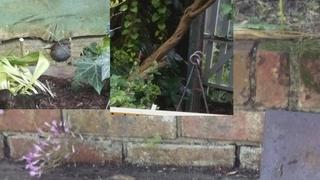sparrow: (44, 40, 70, 65)
